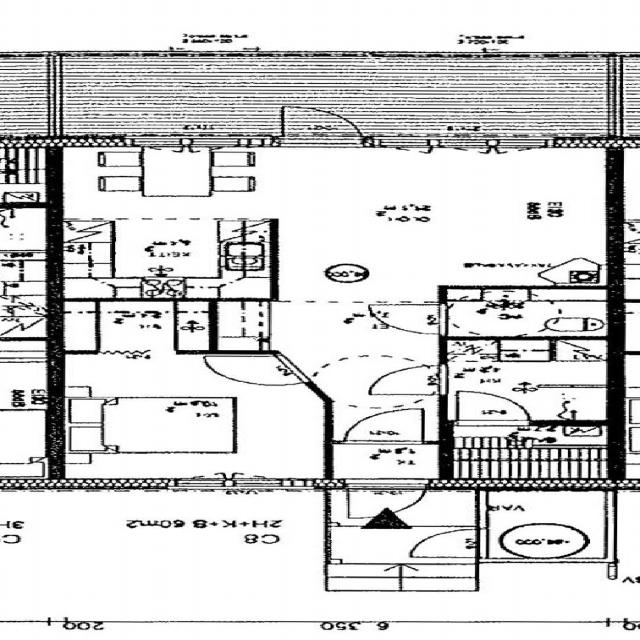door: (212, 355, 310, 393), (284, 105, 362, 147), (348, 478, 425, 520), (345, 409, 423, 443), (456, 391, 528, 425), (367, 304, 447, 334), (367, 365, 447, 394), (406, 529, 488, 557)
